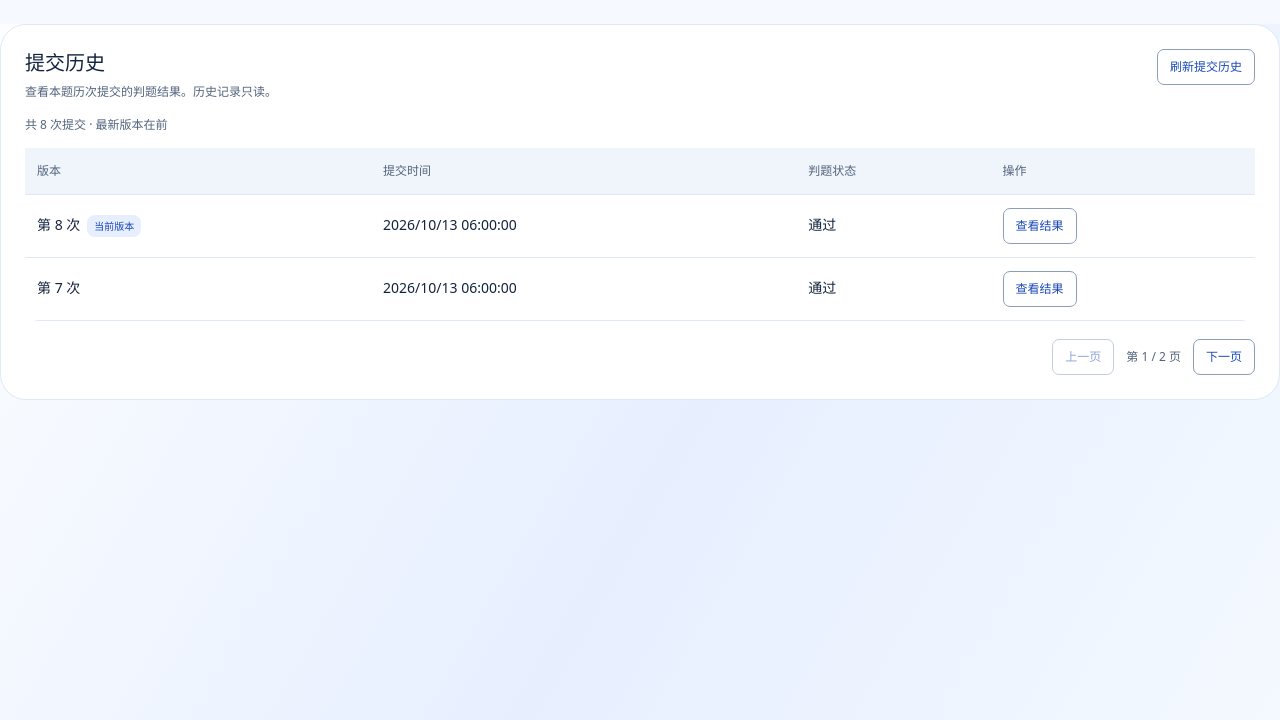
详情查询失败允许重试，不重新提交或判题
Click the button with aria-label "查看第 7 次提交结果" at (1040, 289), box [1003,271,1077,307]
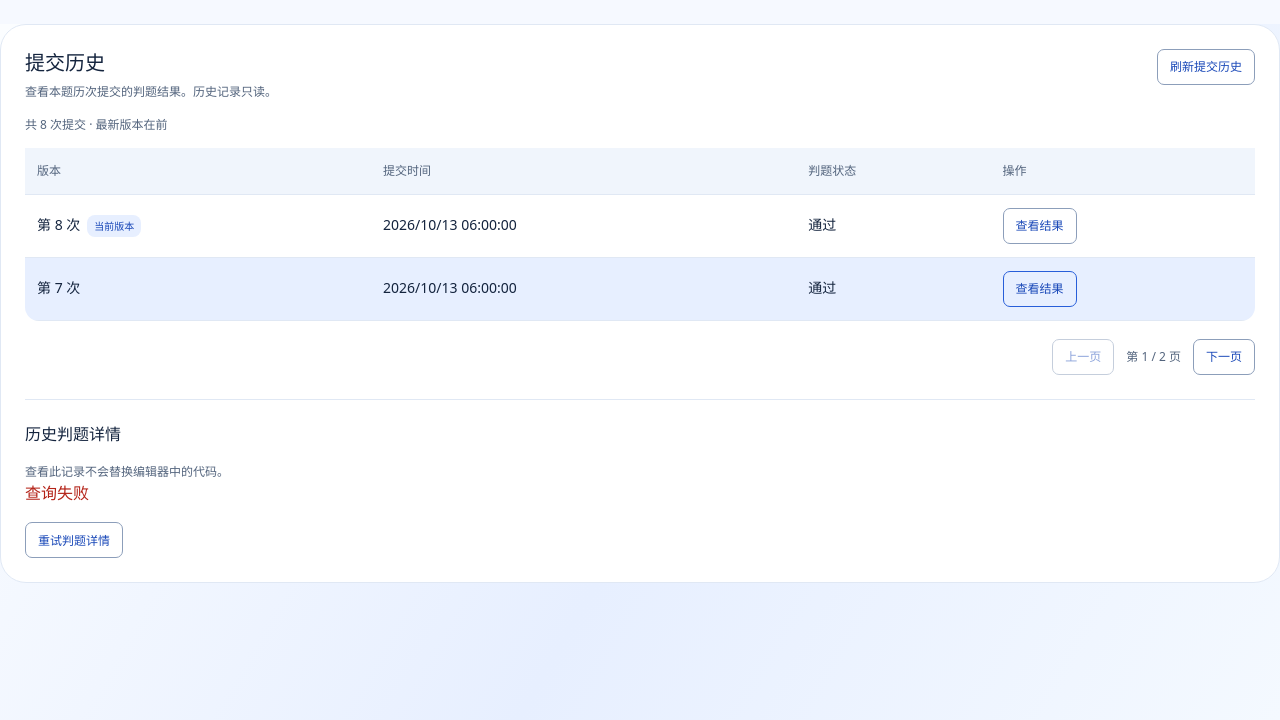
Result: the message "查询失败 重试判题详情" is shown at [25,482,123,558]
Click the button "重试判题详情" at (74, 540), box [25,522,123,558]
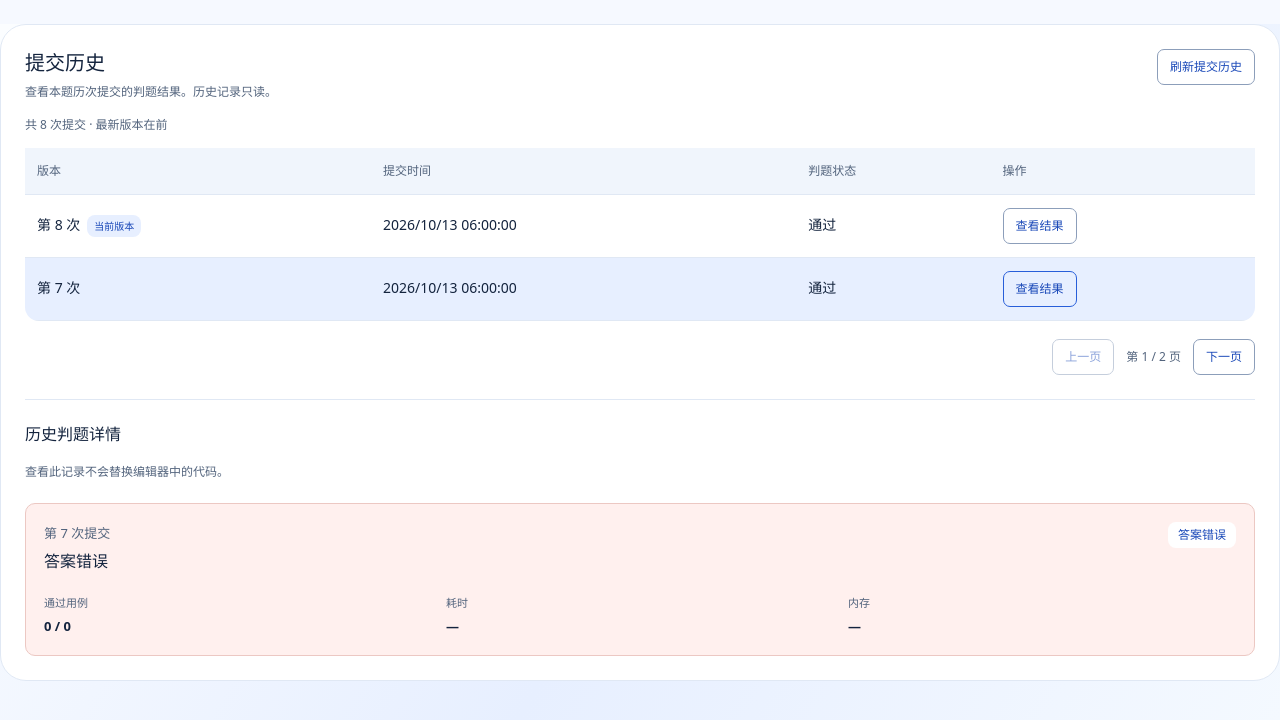
Result: the element with class "history-detail" shows "答案错误" at [44,550,108,572]
